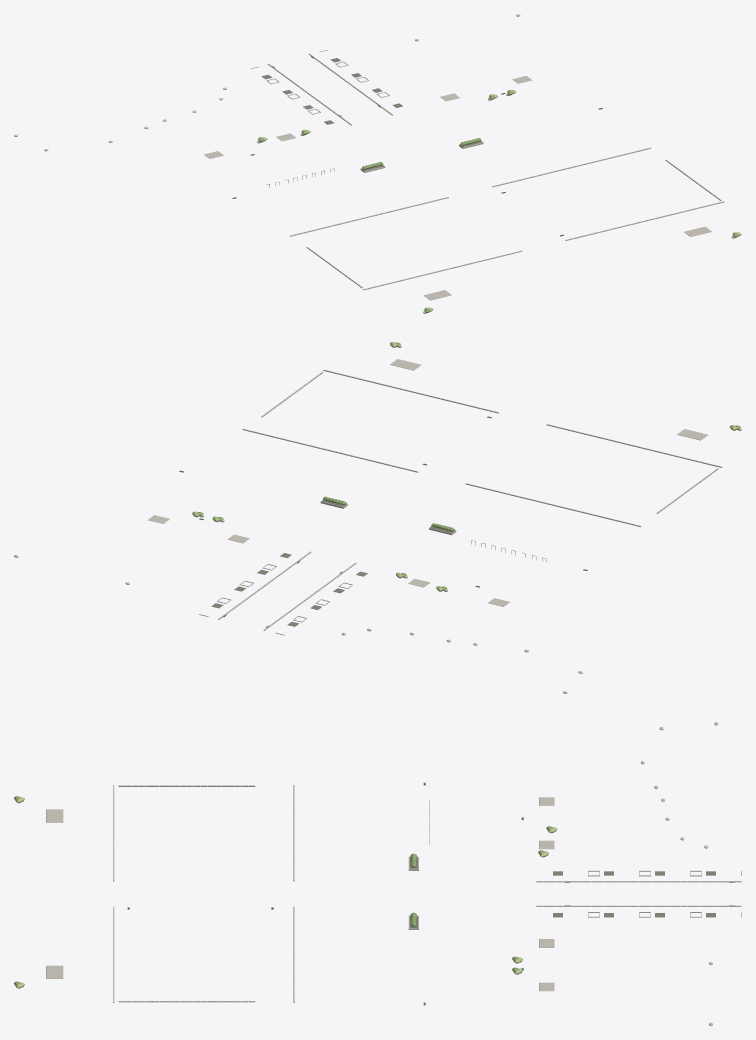
File: diositedetail.glb
3 renders of one model, top to bottom at view 1: azimuth 30°, elevation 25°; view 2: azimuth 150°, elevation 25°; view 3: azimuth 270°, elevation 25°, orthographic. The views are drawn at different scales.
Parts seen in each view (by area): view 1: DioSiteDetail_Stone; view 2: DioSiteDetail_Stone; view 3: DioSiteDetail_Stone, DioSiteDetail_Trunk.
Boxes of the visible parts, bbox=[...] form: DioSiteDetail_Stone: bbox=[14, 14, 734, 313]; DioSiteDetail_Stone: bbox=[14, 345, 741, 693]; DioSiteDetail_Stone: bbox=[46, 722, 741, 1025]; DioSiteDetail_Trunk: bbox=[409, 856, 715, 927].
Size of the model in its own units: 105 by 1.05 by 106.
